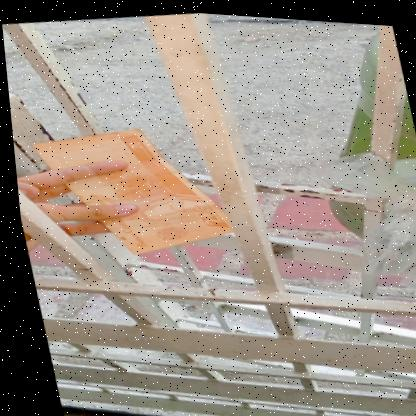twenty-back-vef: (23, 110, 235, 270)
